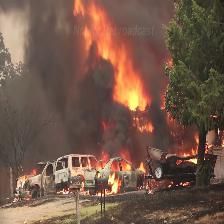fire: (70, 1, 178, 212)
smoke: (0, 0, 90, 127), (120, 0, 213, 116)
